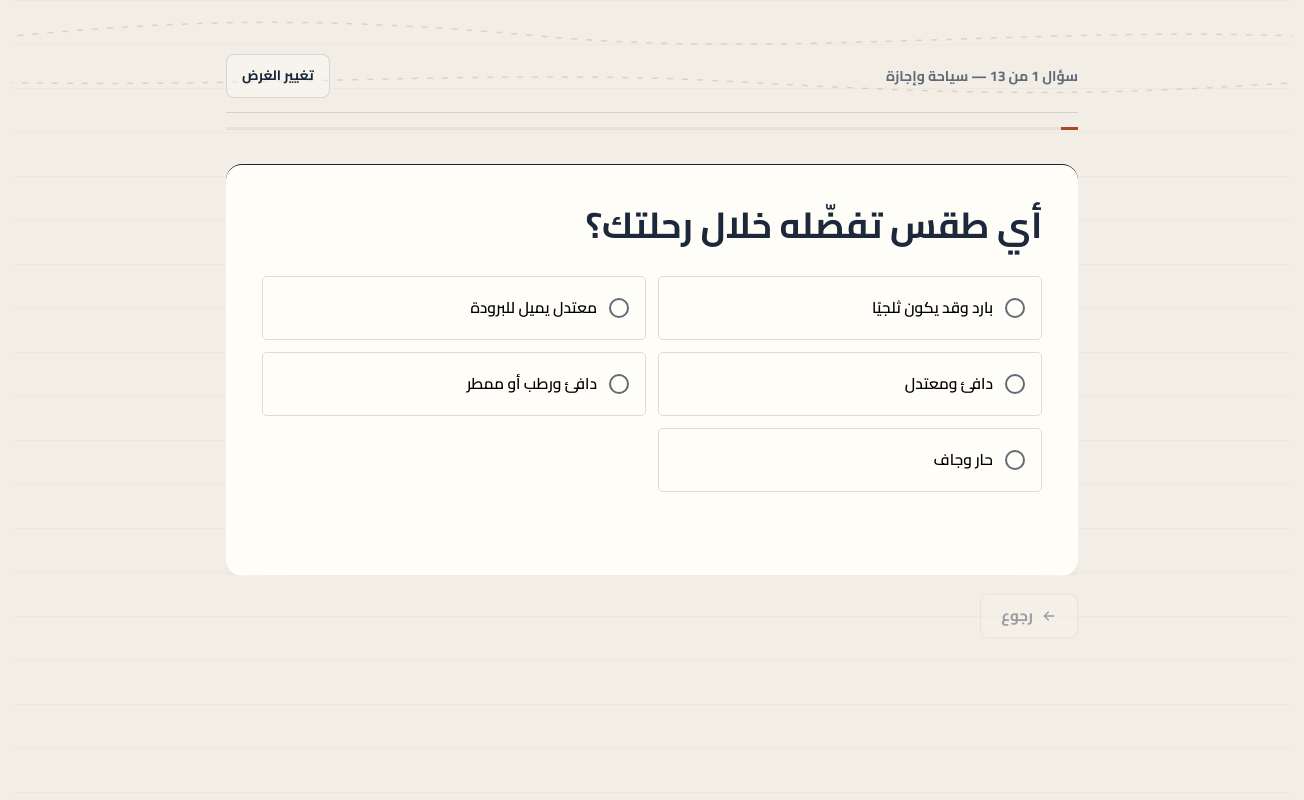
Scenario: deterministic questionnaire product flow › advances immediately after choosing an option
Later steps or results of the test are not shown.
Click the radio button labelled "بارد وقد يكون ثلجيًا": (932, 308) [658,276,1042,340]
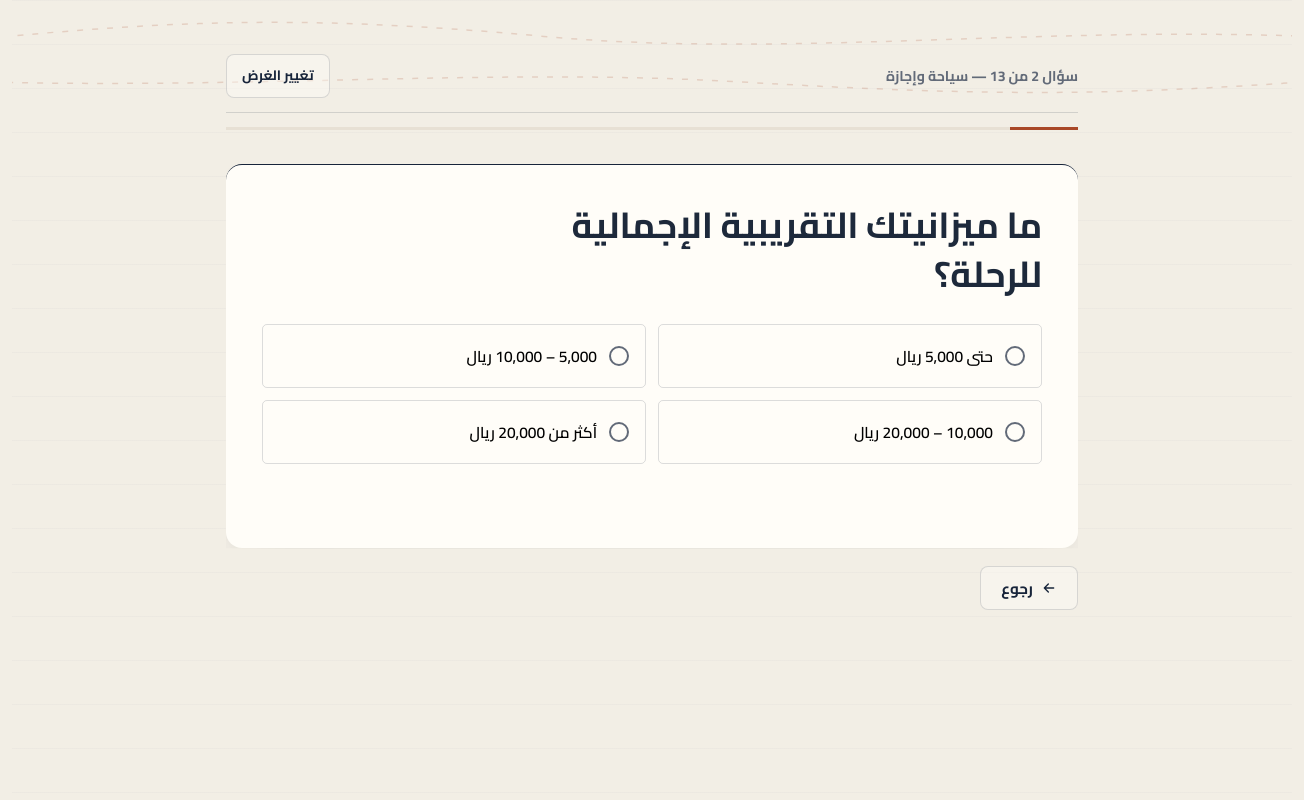
Expected: the heading "أي طقس تفضّله خلال رحلتك؟" no longer shows "أي طقس تفضّله خلال رحلتك؟"
